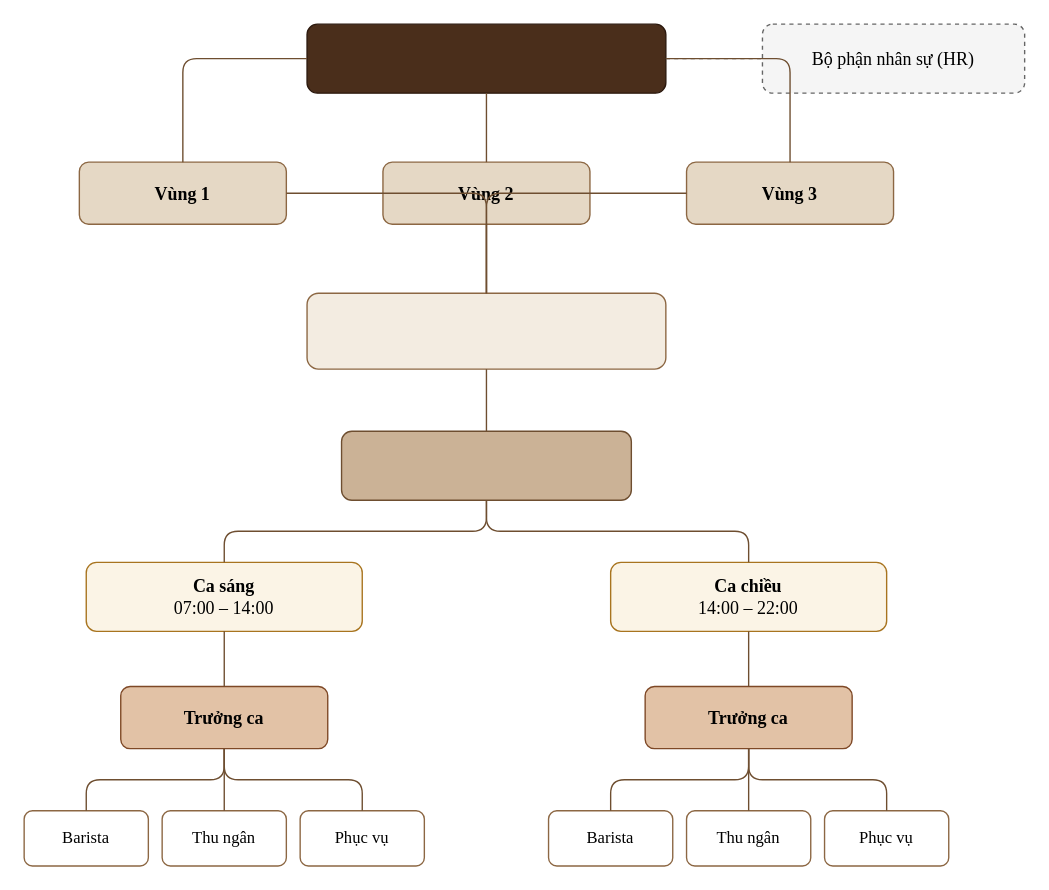
The diagram is 1049 pixels wide and 890 high, and some of its shapes have lost their labels. The box of each missing label's shape, as (x1, y1, x2, y2) in pixels:
CHUỖI CỬA HÀNG BREWLEARN: (306, 23, 666, 93)
Cửa hàng (10 cửa hàng thuộc 3 vùng): (306, 292, 666, 369)
Quản lý cửa hàng: (340, 430, 631, 500)
